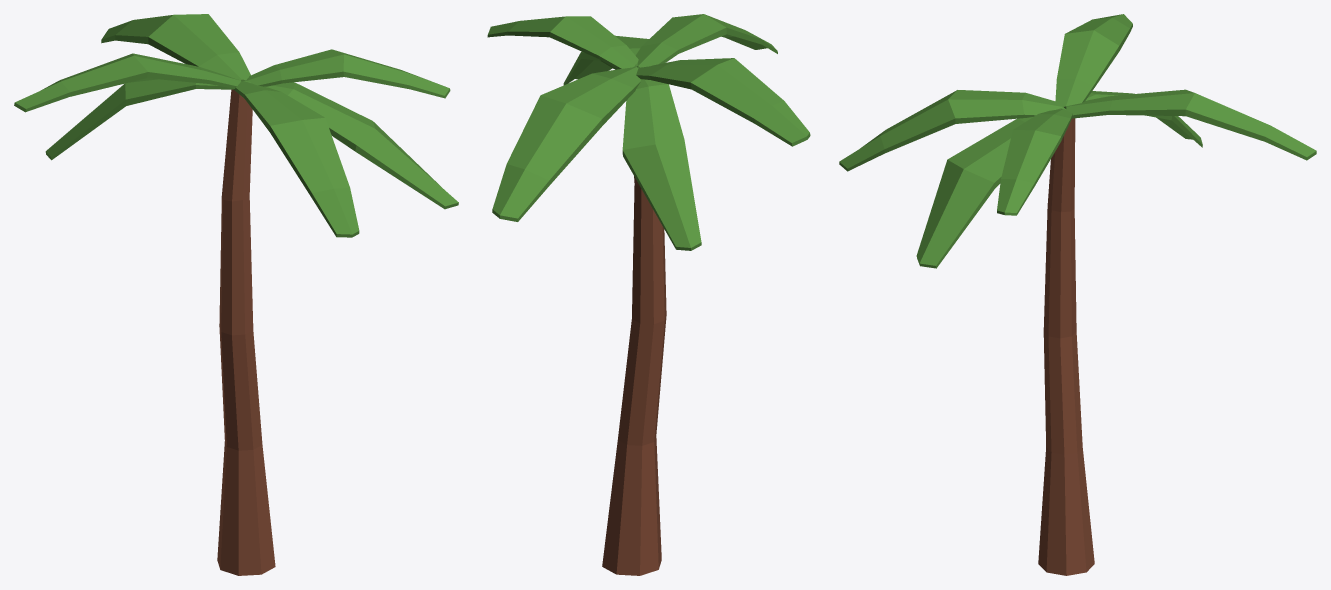
Rendered from Tree_38_summer_mat.fbx.
3 views of the same model, side by side, from view 1: azimuth 30°, elevation 25°; view 2: azimuth 150°, elevation 25°; view 3: azimuth 270°, elevation 25° (orthographic). The views are drawn at different scales.
Parts seen in each view (by area): view 1: Tree_38_summer_mat; view 2: Tree_38_summer_mat; view 3: Tree_38_summer_mat.
Part boxes in pixels (left/top/right/bottom): Tree_38_summer_mat: left=14, top=14, right=458, bottom=575; Tree_38_summer_mat: left=487, top=14, right=810, bottom=575; Tree_38_summer_mat: left=839, top=14, right=1316, bottom=575.
Bounding box in the file's own units: 160 × 214 × 189.
